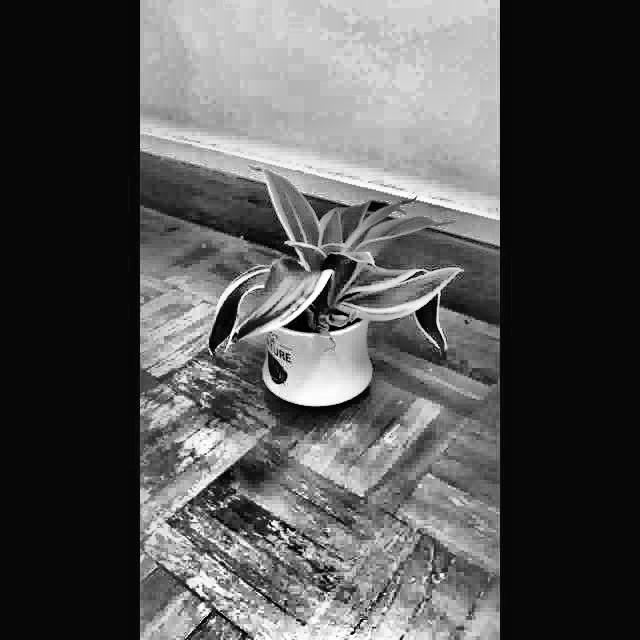plants: (202, 159, 470, 417)
